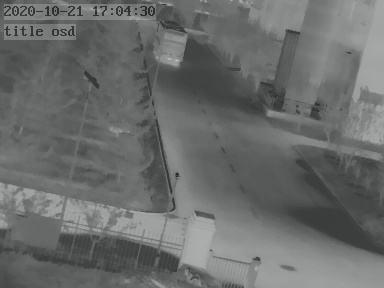vehicle: (153, 17, 188, 63)
